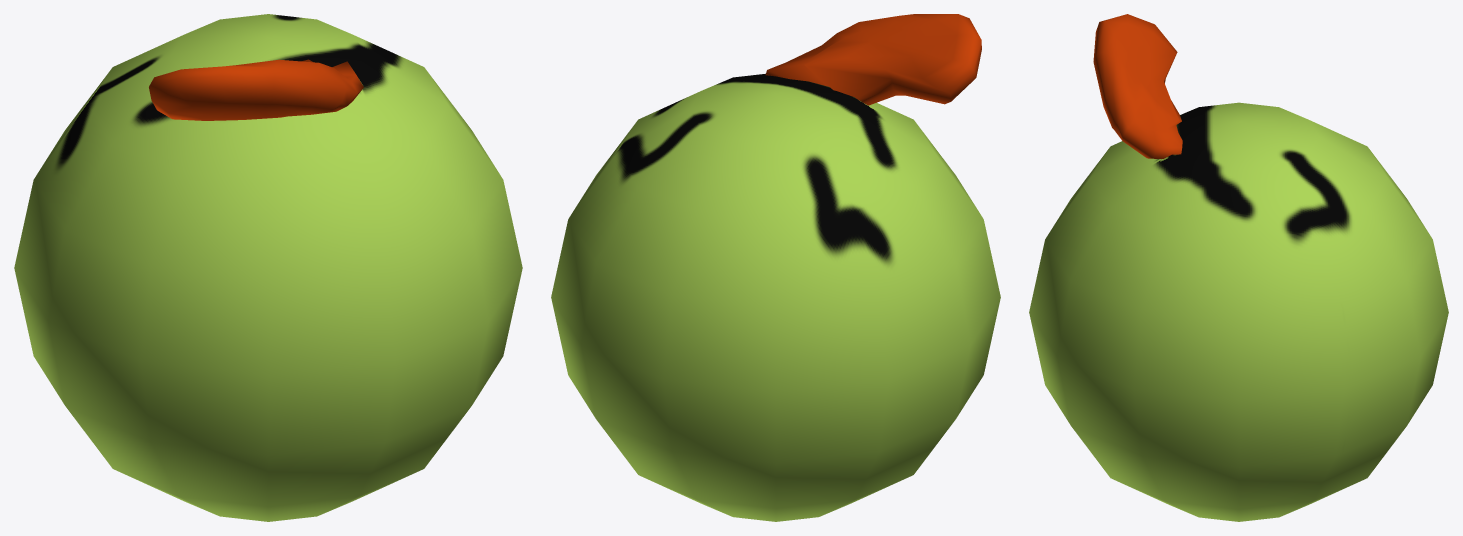
Rendered from jezyk_1.fbx.
3 renders of one model, left to right at view 1: azimuth 30°, elevation 25°; view 2: azimuth 150°, elevation 25°; view 3: azimuth 270°, elevation 25°, orthographic. The views are drawn at different scales.
Visible parts, largest first — view 1: jezyk_1; view 2: jezyk_1; view 3: jezyk_1.
Boxes of the visible parts, x1,y1,x2,y2 form: jezyk_1: [14, 14, 522, 521]; jezyk_1: [551, 14, 1000, 521]; jezyk_1: [1029, 14, 1448, 521].
Size of the model in its own units: 53 by 60.03 by 53.
